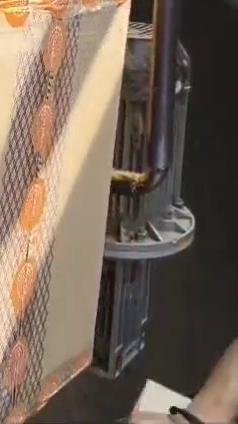box: (0, 0, 128, 423)
